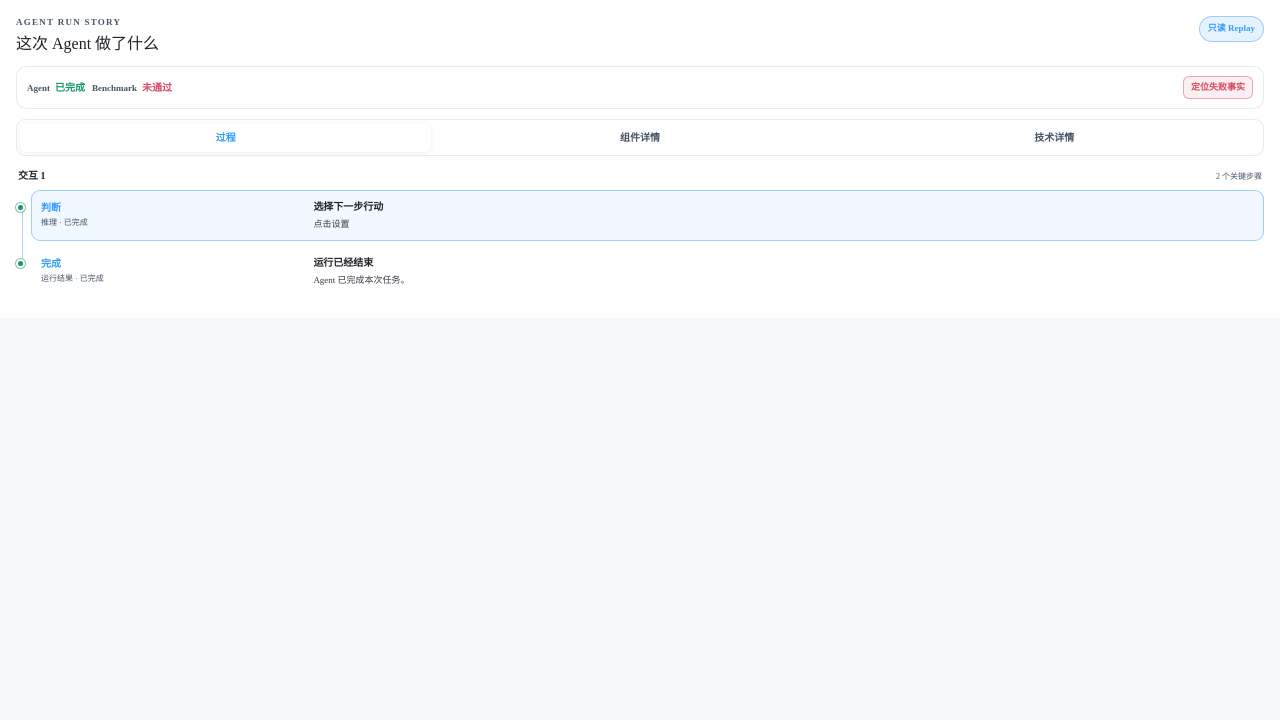
RunInspector › separates component inputs and outputs and keeps Prompt content hidden
Click the button "判断 推理 · 已完成 选择下一步行动 点击设置".
click(348, 206)  # box [31,190,1264,241]
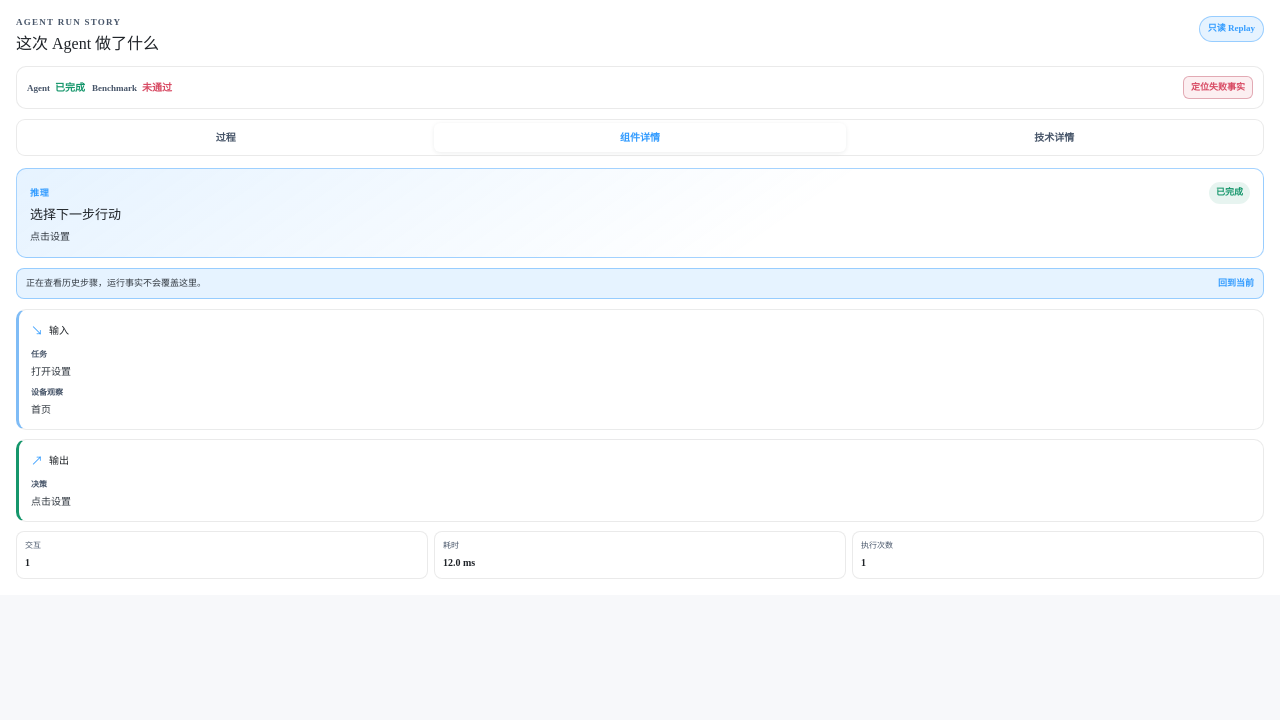
Check: the tab "组件详情" is shown, box [434,123,846,152]
Check: the text "首页" is shown, box [31,404,51,415]
Check: the text "点击设置" below "决策" is shown, box [31,496,71,507]
